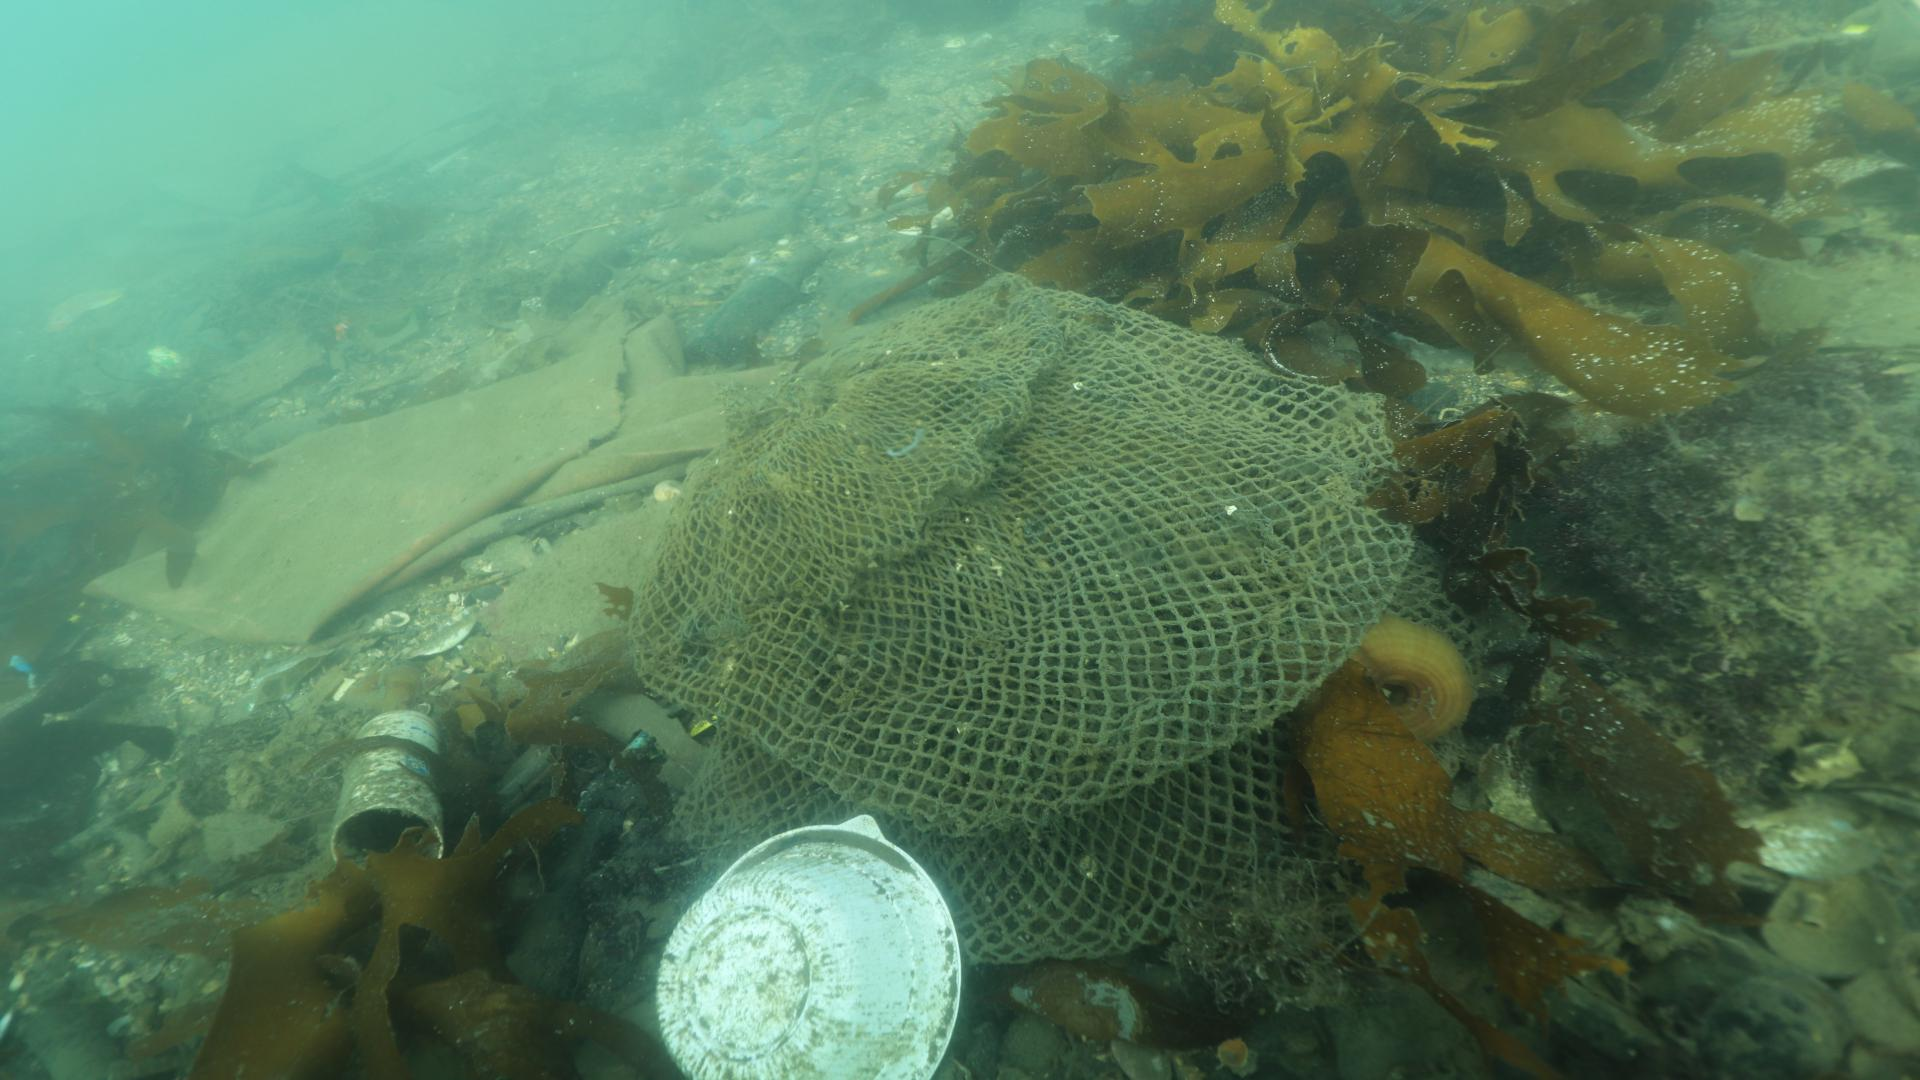fish net: (633, 272, 1484, 963)
